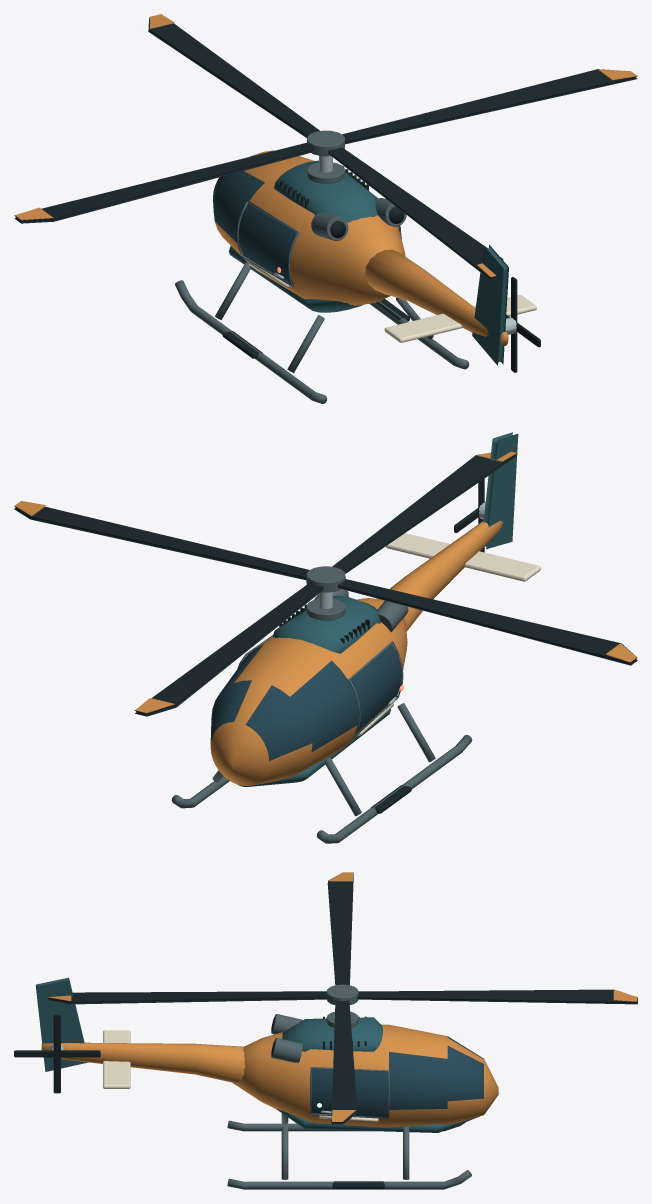
File: osprey-heli.glb
3 renders of one model, top to bottom at view 1: azimuth 30°, elevation 25°; view 2: azimuth 150°, elevation 25°; view 3: azimuth 270°, elevation 25°, orthographic. The views are drawn at different scales.
Visible parts, largest first — view 1: Aerodynamic cabin, Tapered tail boom, Composite rotor blade, Composite rotor blade.002, Composite rotor blade.003, Composite rotor blade.001, Turbine cowling, Tail fin, Horizontal stabilizer, Swept landing skid, Lower belly, Swept landing skid.001 (+5 smaller); view 2: Aerodynamic cabin, Composite rotor blade.002, Composite rotor blade, Composite rotor blade.001, Composite rotor blade.003, Tapered tail boom, Turbine cowling, Tail fin, Horizontal stabilizer, Swept landing skid, Rotor hub, Lower belly (+4 smaller); view 3: Aerodynamic cabin, Tapered tail boom, Composite rotor blade.001, Composite rotor blade.003, Tail fin, Composite rotor blade, Composite rotor blade.002, Turbine cowling, Swept landing skid.001, Lower belly, Horizontal stabilizer, Swept landing skid (+5 smaller).
Boxes of the visible parts, x1,y1,x2,y2 form: Aerodynamic cabin: (213, 150, 405, 305); Tapered tail boom: (365, 249, 508, 345); Composite rotor blade: (342, 69, 637, 144); Composite rotor blade.002: (14, 142, 314, 223); Composite rotor blade.003: (327, 147, 503, 280); Composite rotor blade.001: (148, 17, 319, 137); Turbine cowling: (274, 160, 377, 222); Tail fin: (472, 245, 508, 365); Horizontal stabilizer: (384, 295, 536, 342); Swept landing skid: (175, 280, 327, 403); Lower belly: (229, 246, 363, 312); Swept landing skid.001: (369, 301, 469, 369); Aerodynamic cabin: (210, 598, 407, 785); Composite rotor blade.002: (337, 579, 637, 665); Composite rotor blade: (14, 503, 309, 580); Composite rotor blade.001: (134, 583, 324, 716); Composite rotor blade.003: (332, 453, 517, 573); Tapered tail boom: (377, 520, 502, 631); Turbine cowling: (273, 595, 380, 653); Tail fin: (483, 432, 518, 549); Horizontal stabilizer: (386, 533, 541, 581); Swept landing skid: (317, 735, 472, 843); Rotor hub: (306, 566, 345, 592); Lower belly: (237, 709, 390, 786); Aerodynamic cabin: (232, 1024, 498, 1127); Tapered tail boom: (41, 1042, 245, 1082); Composite rotor blade.001: (357, 989, 637, 1004); Composite rotor blade.003: (47, 991, 327, 1004); Tail fin: (36, 977, 88, 1071); Composite rotor blade: (331, 1000, 357, 1124); Composite rotor blade.002: (327, 872, 353, 985); Turbine cowling: (282, 1017, 382, 1051); Swept landing skid.001: (227, 1170, 471, 1189); Lower belly: (276, 1109, 479, 1132); Horizontal stabilizer: (103, 1030, 130, 1088); Swept landing skid: (227, 1120, 465, 1131).
Bounding box in the file's own units: 10.23 × 3.44 × 10.8.
